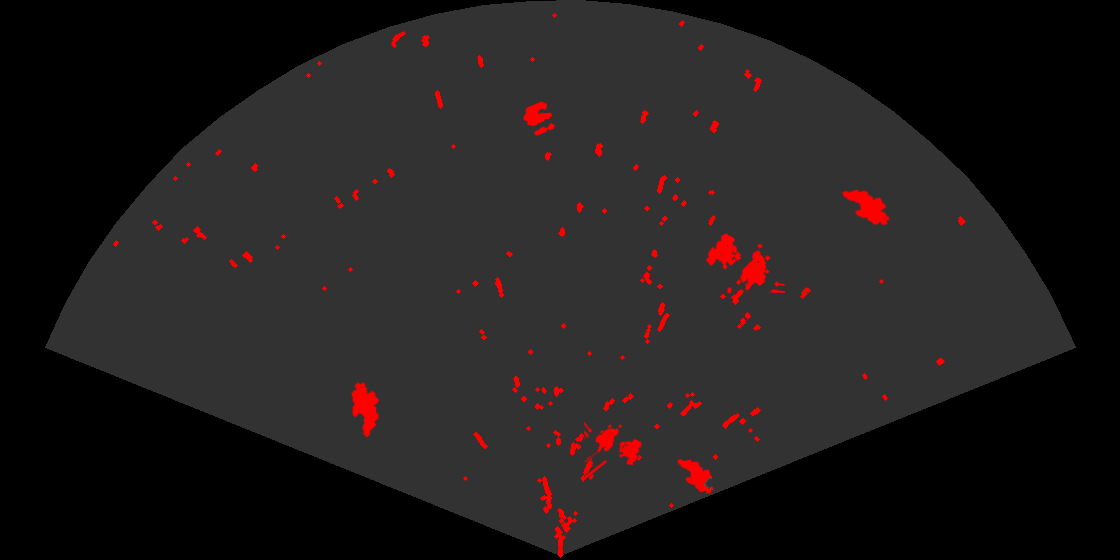AUV: (840, 188, 891, 227), (350, 381, 380, 439), (676, 457, 715, 496)
ball: (522, 100, 557, 137)
cage: (704, 232, 785, 293), (584, 420, 643, 481)
